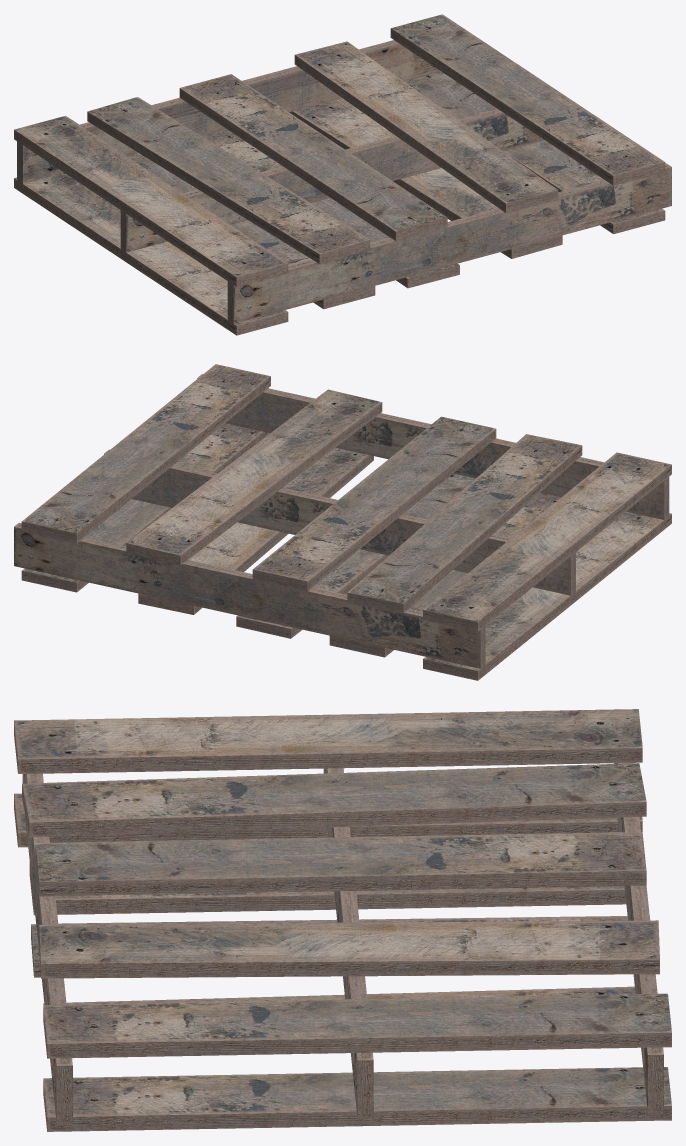
File: Palet_v1_single (7).001.glb
The picture shows the model from 3 angles, top to bottom: view 1: azimuth 30°, elevation 25°; view 2: azimuth 150°, elevation 25°; view 3: azimuth 270°, elevation 25°; orthographic projection. The views are drawn at different scales.
Parts seen in each view (by area): view 1: Palet_v1_single (7).001; view 2: Palet_v1_single (7).001; view 3: Palet_v1_single (7).001.
Boxes of the visible parts, x1=… form: Palet_v1_single (7).001: x1=14, y1=14, x2=671, y2=335; Palet_v1_single (7).001: x1=14, y1=364, x2=671, y2=680; Palet_v1_single (7).001: x1=14, y1=709, x2=671, y2=1131.
Bounding box in the file's own units: 1.81 × 0.2164 × 1.47.
Materials: 1 (1 with a texture image).
